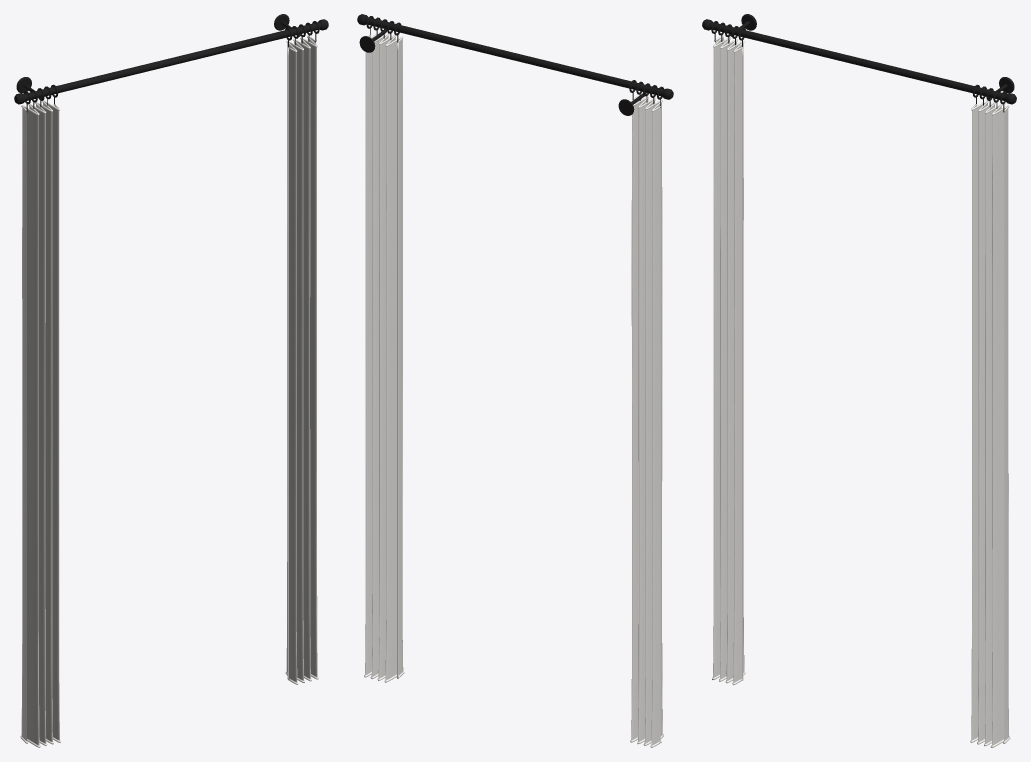
Rendered from cortina_onda_120_c20.glb.
3 views of the same model, side by side, from view 1: azimuth 30°, elevation 25°; view 2: azimuth 150°, elevation 25°; view 3: azimuth 330°, elevation 25° (orthographic).
Parts seen in each view (by area): view 1: cortina_onda_120_c20; view 2: cortina_onda_120_c20; view 3: cortina_onda_120_c20.
Boxes of the visible parts, <box> form: cortina_onda_120_c20: <box>14,14,328,747</box>; cortina_onda_120_c20: <box>357,14,673,747</box>; cortina_onda_120_c20: <box>702,14,1016,747</box>.
Bounding box in the file's own units: 1.2 × 2.39 × 0.1783.
2 materials, 1 textured.
